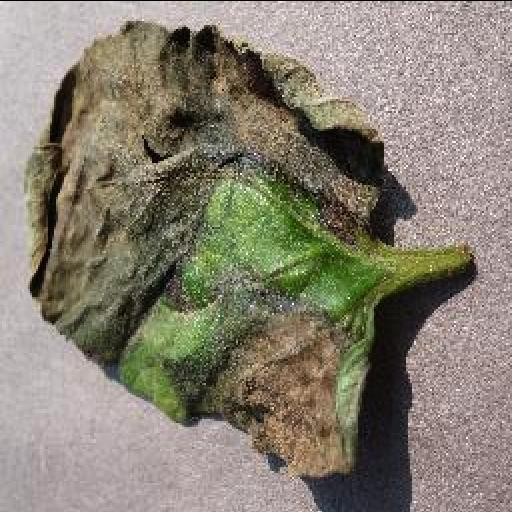disease_tomato: (28, 18, 386, 480)
